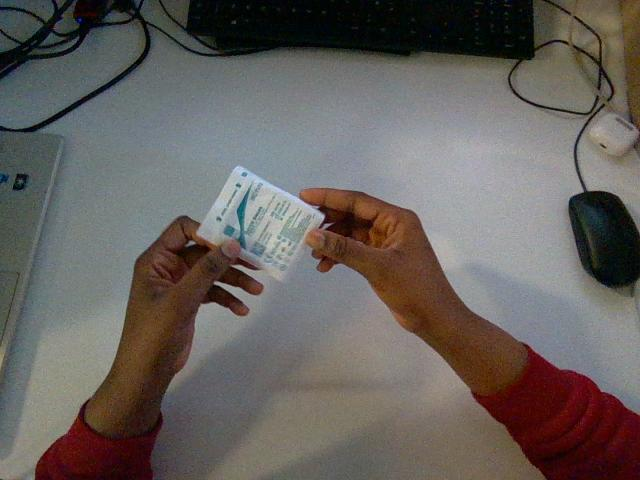gauze: (197, 166, 323, 279)
